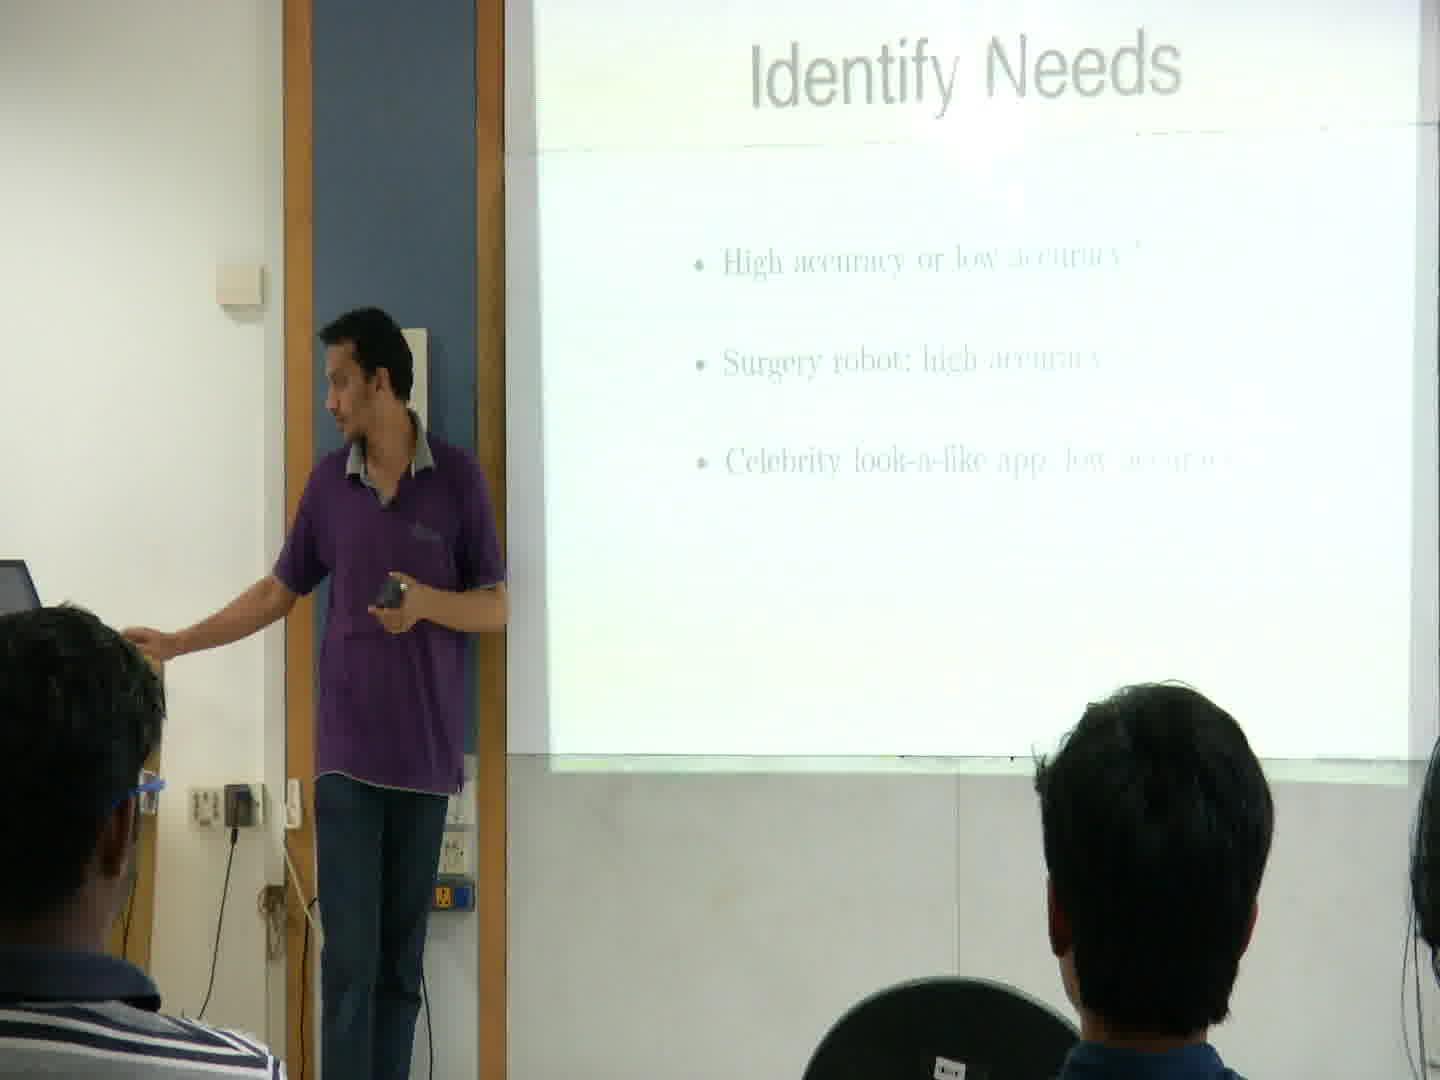slide: (535, 3, 1411, 785)
